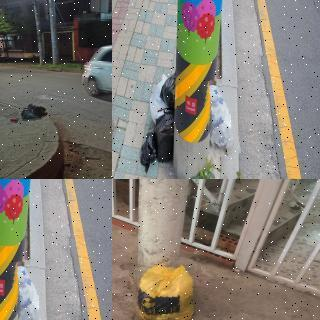Garbage: (130, 260, 200, 320), (204, 78, 238, 157), (11, 259, 46, 320), (151, 113, 181, 166), (149, 75, 171, 120), (19, 101, 50, 120)
